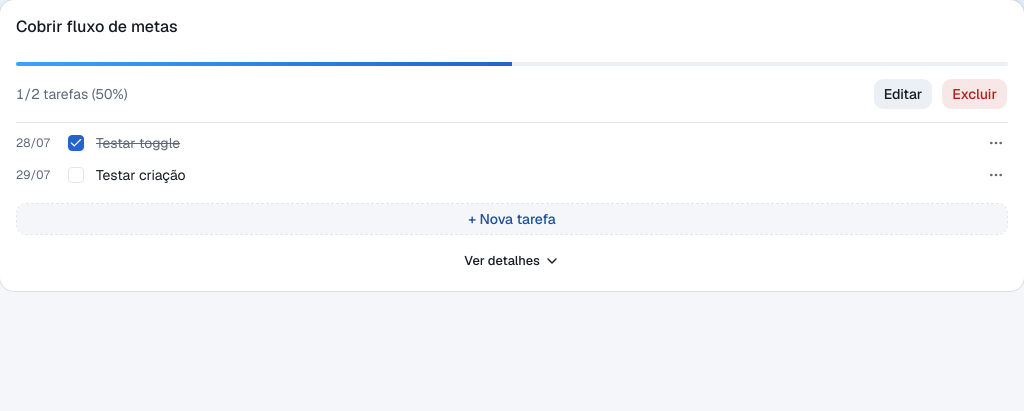
Scenario: WeeklyGoalCard › closes the form on Cancelar and keeps it open after creating a task
Click the button "+ Nova tarefa".
click(512, 219)  # box [16,203,1008,235]
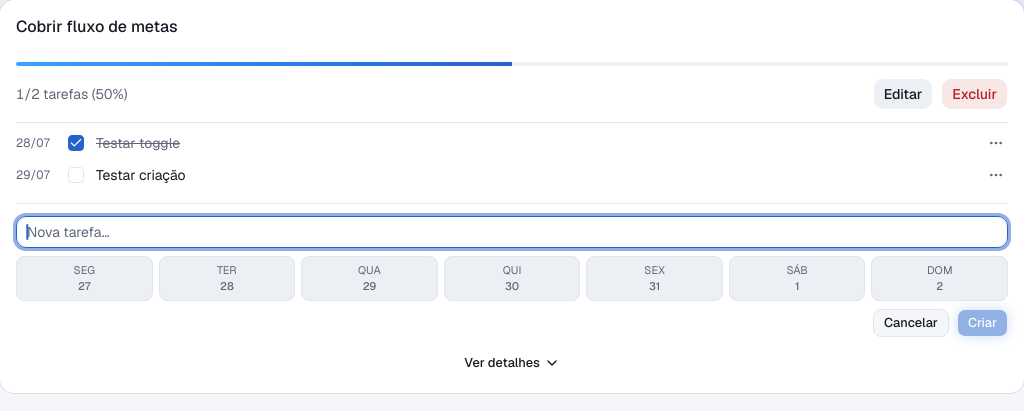
Type "Alongamento" into the field labelled "Nova tarefa".
click(512, 232); type("Alongamento")  # box [16,216,1008,248]
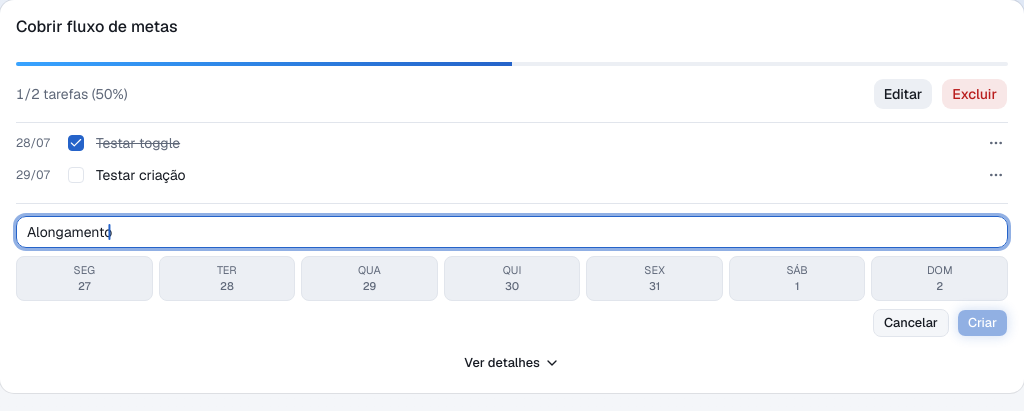
Click the checkbox labelled "TER 28".
click(227, 279)  # box [159,256,295,301]
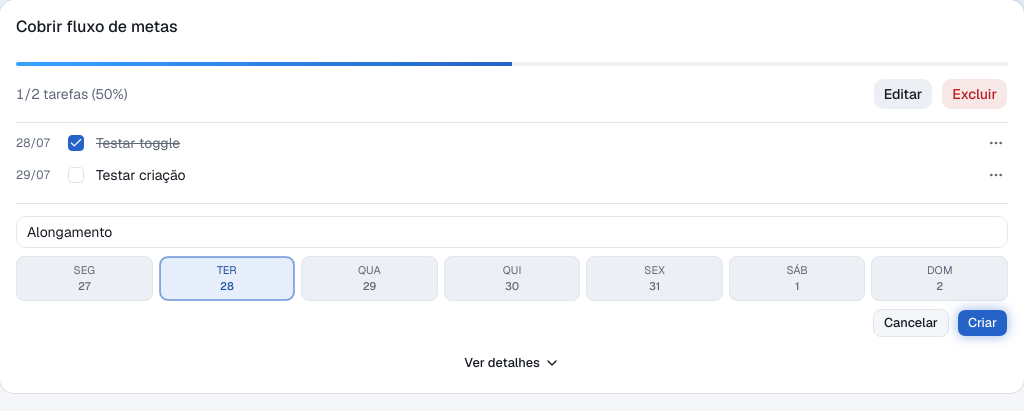
Click the button "Criar".
click(982, 323)  # box [957,309,1008,337]
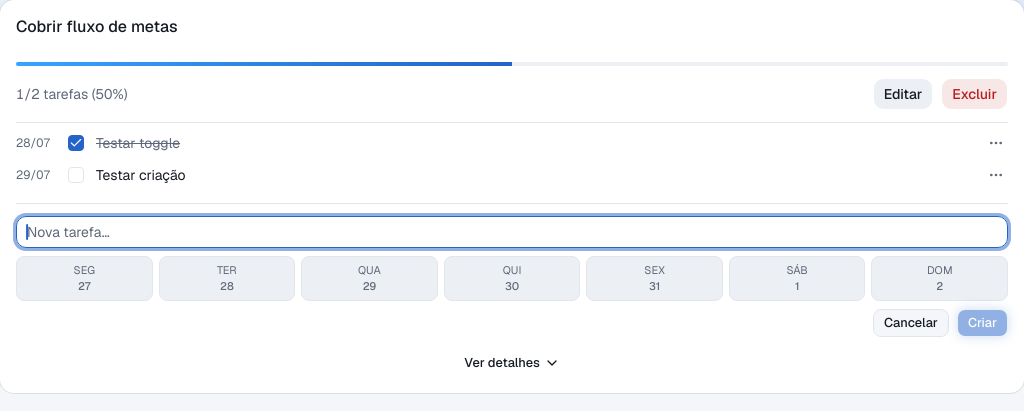
Expected: the field labelled "Nova tarefa" is shown, [16,216,1008,248]
Click the button "Cancelar".
click(911, 323)  # box [873,309,949,337]
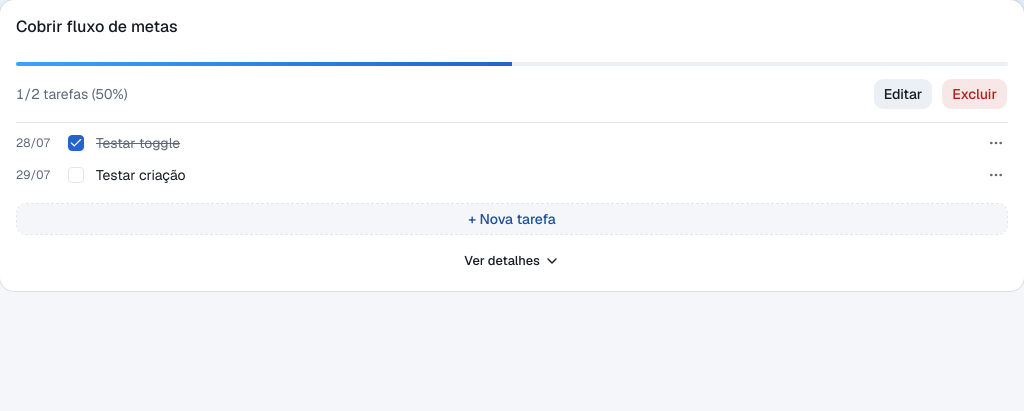
Expected: the button "+ Nova tarefa" is shown, [16,203,1008,235]
